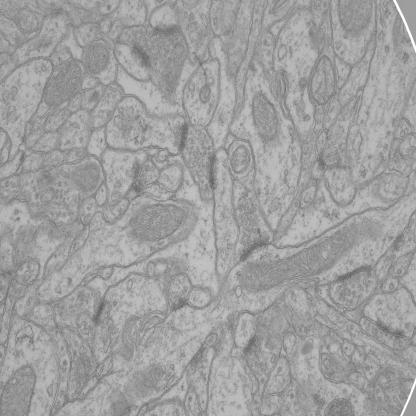mitochondria: (129, 202, 187, 245), (42, 59, 82, 109), (1, 361, 37, 416), (307, 52, 335, 113), (250, 93, 281, 143), (336, 0, 374, 37), (80, 42, 111, 76), (72, 162, 97, 192), (229, 146, 251, 176)
